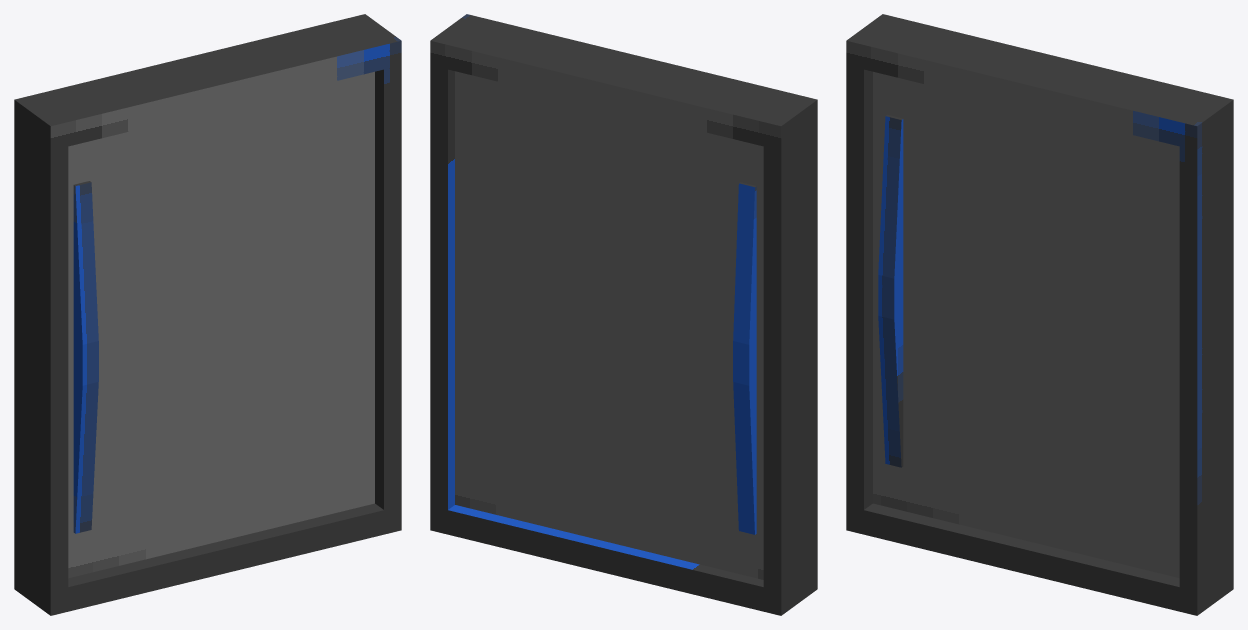
File: F7_Door.glb
The picture shows the model from 3 angles, left to right: view 1: azimuth 30°, elevation 25°; view 2: azimuth 150°, elevation 25°; view 3: azimuth 330°, elevation 25°; orthographic projection.
Parts seen in each view (by area): view 1: Small Door; view 2: Small Door; view 3: Small Door.
Part boxes in pixels (x1=…): Small Door: x1=14, y1=14, x2=401, y2=615; Small Door: x1=430, y1=14, x2=817, y2=615; Small Door: x1=846, y1=14, x2=1233, y2=615.
Bounding box in the file's own units: 1.5 × 2 × 0.27.
Materials: 1 (1 with a texture image).
